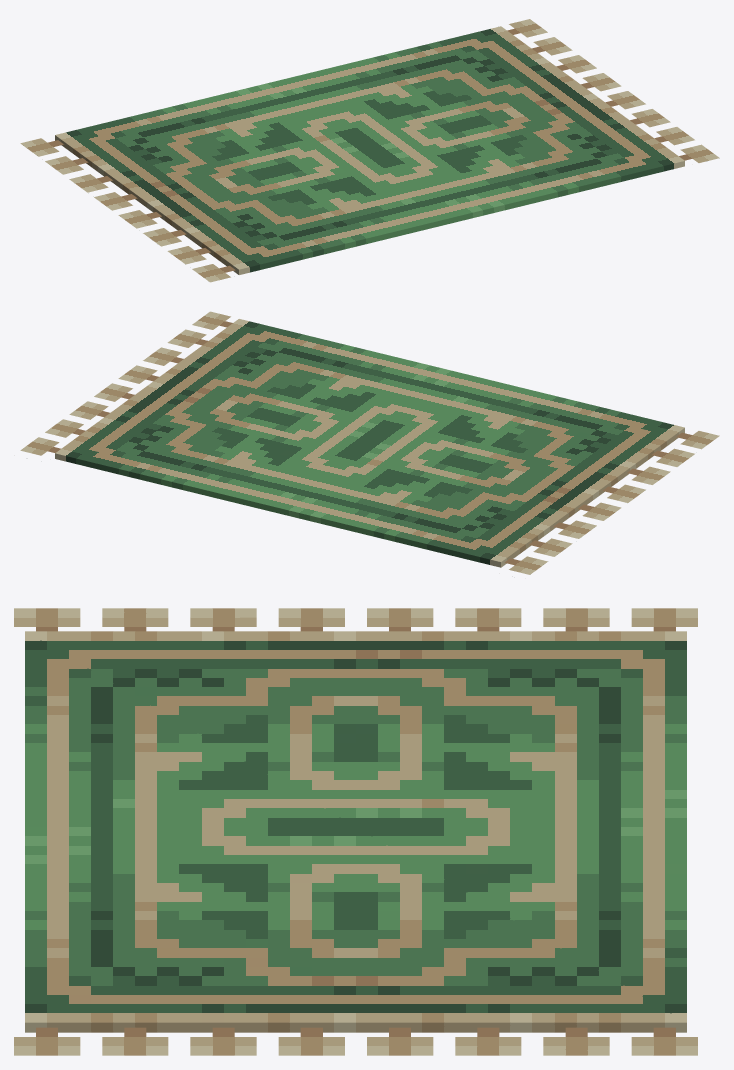
File: bedroom-rug.gltf
3 renders of one model, top to bottom at view 1: azimuth 30°, elevation 25°; view 2: azimuth 150°, elevation 25°; view 3: azimuth 270°, elevation 25°, orthographic. The views are drawn at different scales.
Parts seen in each view (by area): view 1: cube (×3); view 2: cube (×3); view 3: cube (×3).
Part boxes in pixels (<box>): cube (×3): <box>20,19,719,282</box>; cube (×3): <box>20,311,719,574</box>; cube (×3): <box>14,608,697,1055</box>.
Size of the model in its own units: 3 by 0.0312 by 2.
Materials: 1 (1 with a texture image).
